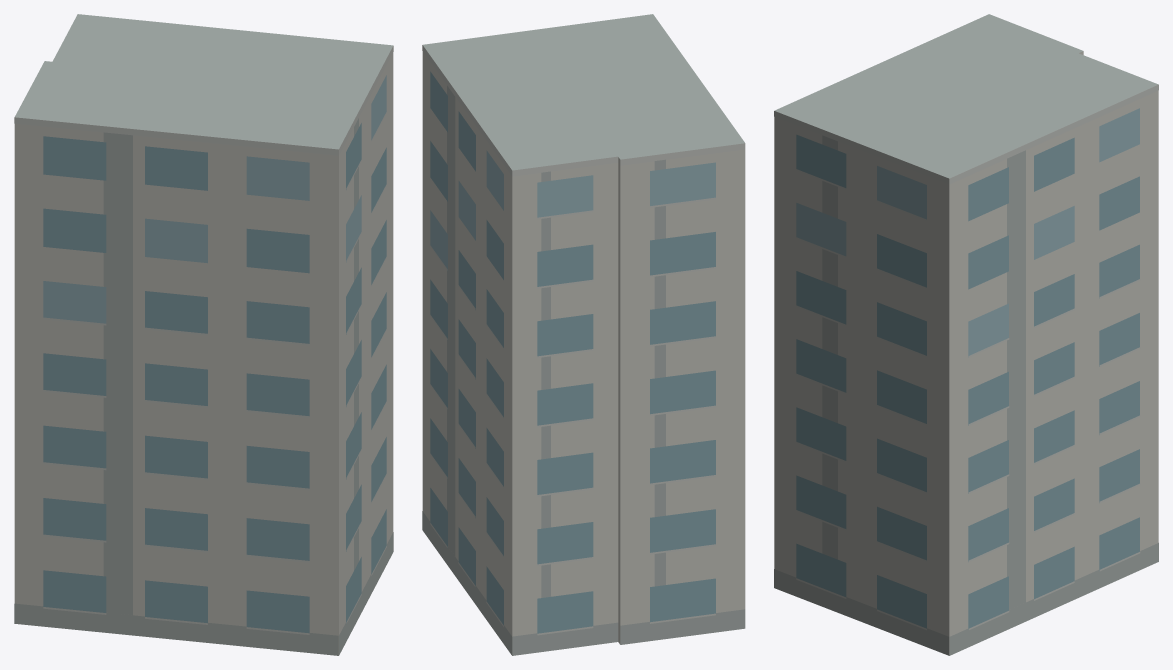
The model's file is survey-upis-32829952.glb.
3 renders of one model, left to right at view 1: azimuth 30°, elevation 25°; view 2: azimuth 150°, elevation 25°; view 3: azimuth 270°, elevation 25°, orthographic. The views are drawn at different scales.
Visible parts, largest first — view 1: survey-upis-32829952.tmp; view 2: survey-upis-32829952.tmp; view 3: survey-upis-32829952.tmp.
Boxes of the visible parts, <box> form: survey-upis-32829952.tmp: <box>14,14,393,655</box>; survey-upis-32829952.tmp: <box>422,14,745,655</box>; survey-upis-32829952.tmp: <box>774,14,1158,655</box>.
Size of the model in its own units: 14.58 by 19.7 by 14.4.
